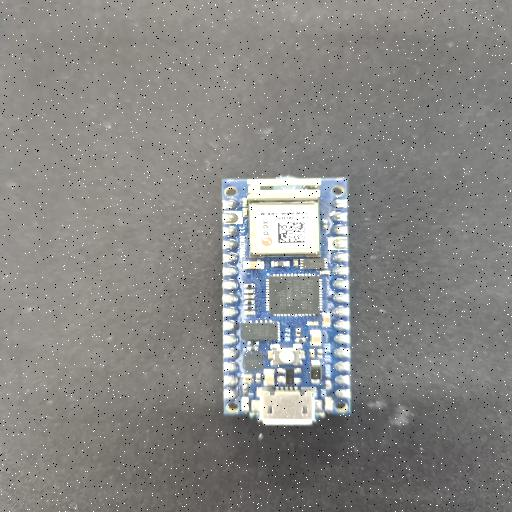arduino-nano-iot-33: (205, 173, 351, 434)
